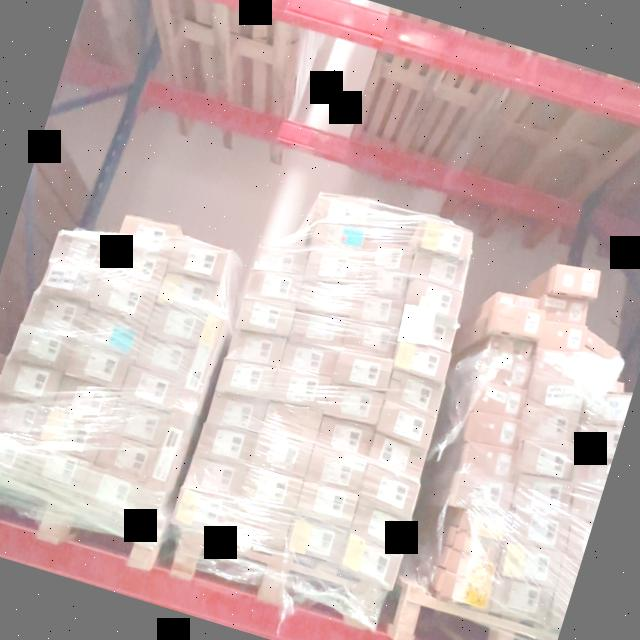box: (142, 410, 194, 513), (177, 312, 226, 414), (24, 445, 93, 499), (223, 504, 292, 555), (78, 309, 144, 361), (516, 436, 582, 488), (348, 503, 414, 554), (294, 478, 358, 530), (358, 464, 422, 516), (79, 466, 143, 518), (146, 300, 210, 352), (498, 540, 563, 591), (89, 277, 155, 327), (40, 410, 106, 460), (506, 506, 570, 557), (54, 376, 119, 426), (238, 464, 302, 514), (284, 518, 348, 568), (66, 343, 131, 392), (305, 444, 368, 494), (215, 356, 278, 406), (338, 540, 401, 590), (184, 452, 247, 502), (133, 335, 198, 383), (25, 290, 87, 340), (108, 398, 170, 448), (195, 421, 258, 470), (120, 364, 183, 413), (527, 368, 590, 417), (521, 402, 584, 451), (332, 346, 396, 394), (116, 210, 180, 258), (450, 470, 514, 518), (0, 357, 60, 408), (171, 490, 232, 540), (95, 431, 156, 481), (250, 429, 312, 478), (169, 235, 231, 284), (105, 242, 167, 291), (365, 434, 428, 482), (489, 576, 552, 624), (511, 472, 574, 520), (11, 324, 72, 373), (234, 294, 296, 342), (382, 370, 444, 418), (374, 402, 436, 450), (158, 268, 220, 316), (206, 390, 267, 438), (398, 306, 461, 352), (323, 381, 384, 428), (54, 225, 114, 272), (391, 338, 452, 384), (226, 327, 286, 372), (314, 415, 374, 460), (262, 399, 322, 444), (288, 308, 346, 354), (244, 264, 302, 310), (346, 288, 406, 332), (304, 246, 362, 291), (464, 408, 522, 453), (270, 368, 329, 412), (42, 260, 100, 304), (316, 192, 376, 234), (460, 440, 517, 484), (472, 378, 529, 422), (488, 296, 544, 340), (410, 248, 468, 290), (278, 339, 336, 381), (311, 218, 369, 260), (418, 216, 473, 260), (297, 277, 353, 320), (342, 318, 399, 360), (534, 344, 591, 386), (406, 277, 464, 318), (550, 258, 602, 302), (580, 384, 632, 428), (364, 234, 416, 276), (356, 262, 410, 302), (254, 240, 308, 280), (480, 352, 533, 392), (0, 393, 45, 440), (536, 314, 586, 356), (574, 418, 621, 462), (438, 574, 492, 612), (540, 289, 592, 328), (459, 504, 512, 542), (452, 529, 504, 565), (447, 551, 499, 587), (580, 329, 628, 364), (485, 329, 534, 363), (0, 427, 32, 477), (571, 454, 610, 494), (544, 584, 572, 630), (563, 523, 591, 563), (554, 552, 580, 594), (568, 492, 600, 524)
